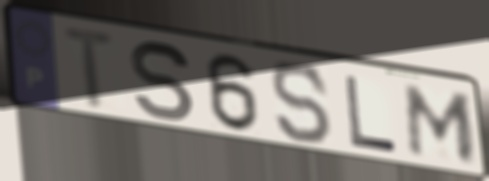6: (203, 51, 261, 135)
L: (341, 73, 401, 156)
M: (404, 81, 479, 166)
S: (128, 38, 198, 126), (269, 60, 336, 147)
T: (59, 23, 122, 113)
